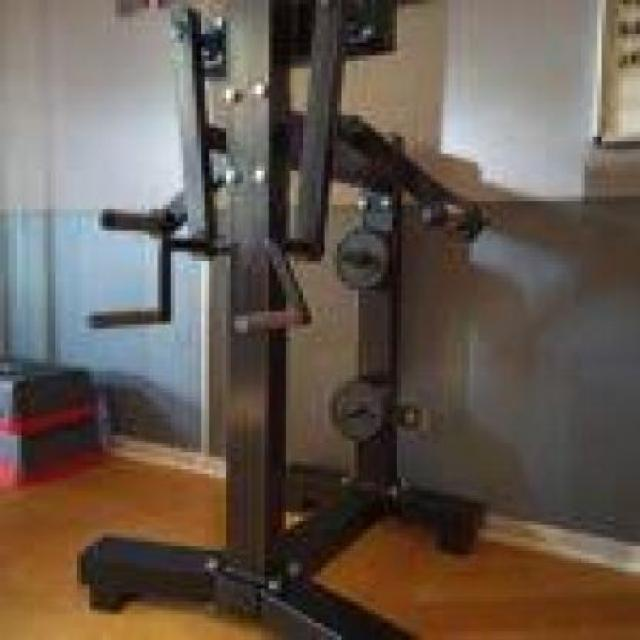lateral raises machine: (88, 0, 494, 640)
